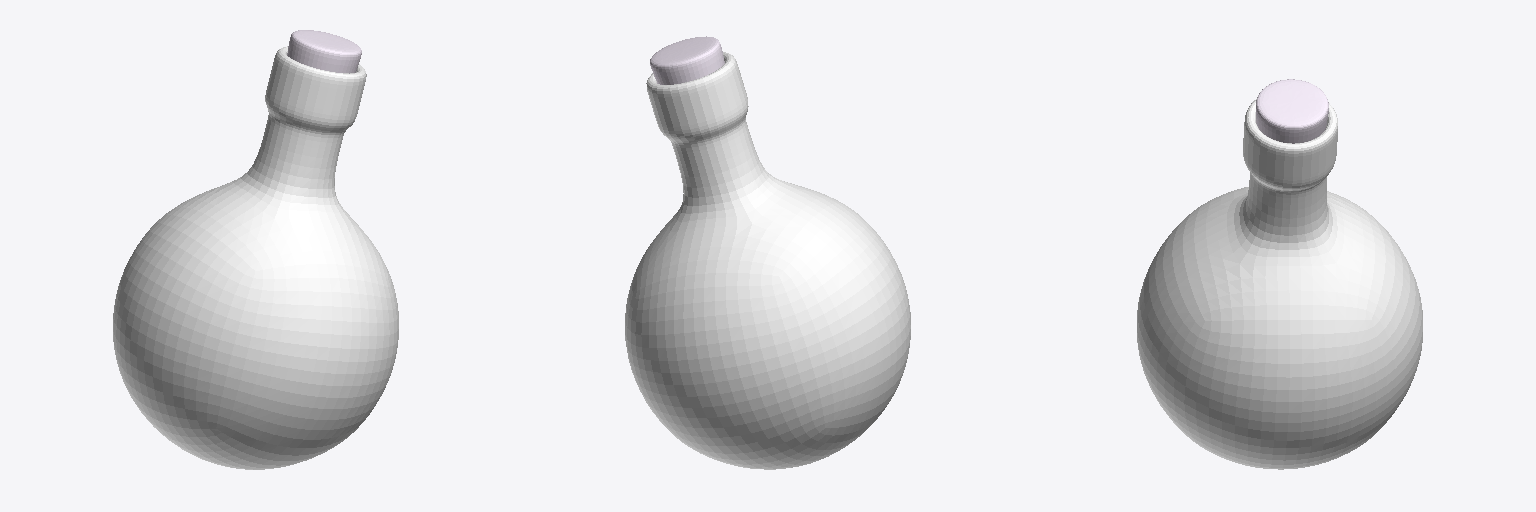
File: 114-space-potion.obj
The picture shows the model from 3 angles: view 1: azimuth 30°, elevation 25°; view 2: azimuth 150°, elevation 25°; view 3: azimuth 270°, elevation 25°; orthographic projection.
Visible parts, largest first — view 1: Glass, Cork; view 2: Glass, Cork; view 3: Glass, Cork.
Part boxes in pixels (left/top/right/bottom): Glass: left=113, top=46, right=398, bottom=469; Cork: left=287, top=30, right=361, bottom=73; Glass: left=625, top=52, right=910, bottom=469; Cork: left=650, top=36, right=724, bottom=84; Glass: left=1137, top=99, right=1422, bottom=469; Cork: left=1256, top=79, right=1328, bottom=143.
Size of the model in its own units: 1.91 by 2.95 by 1.91.